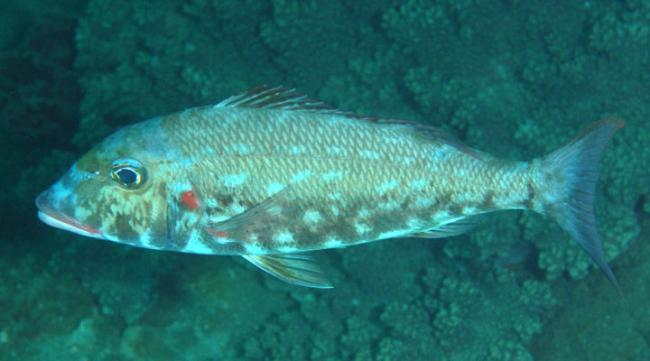fish: (33, 85, 623, 301)
